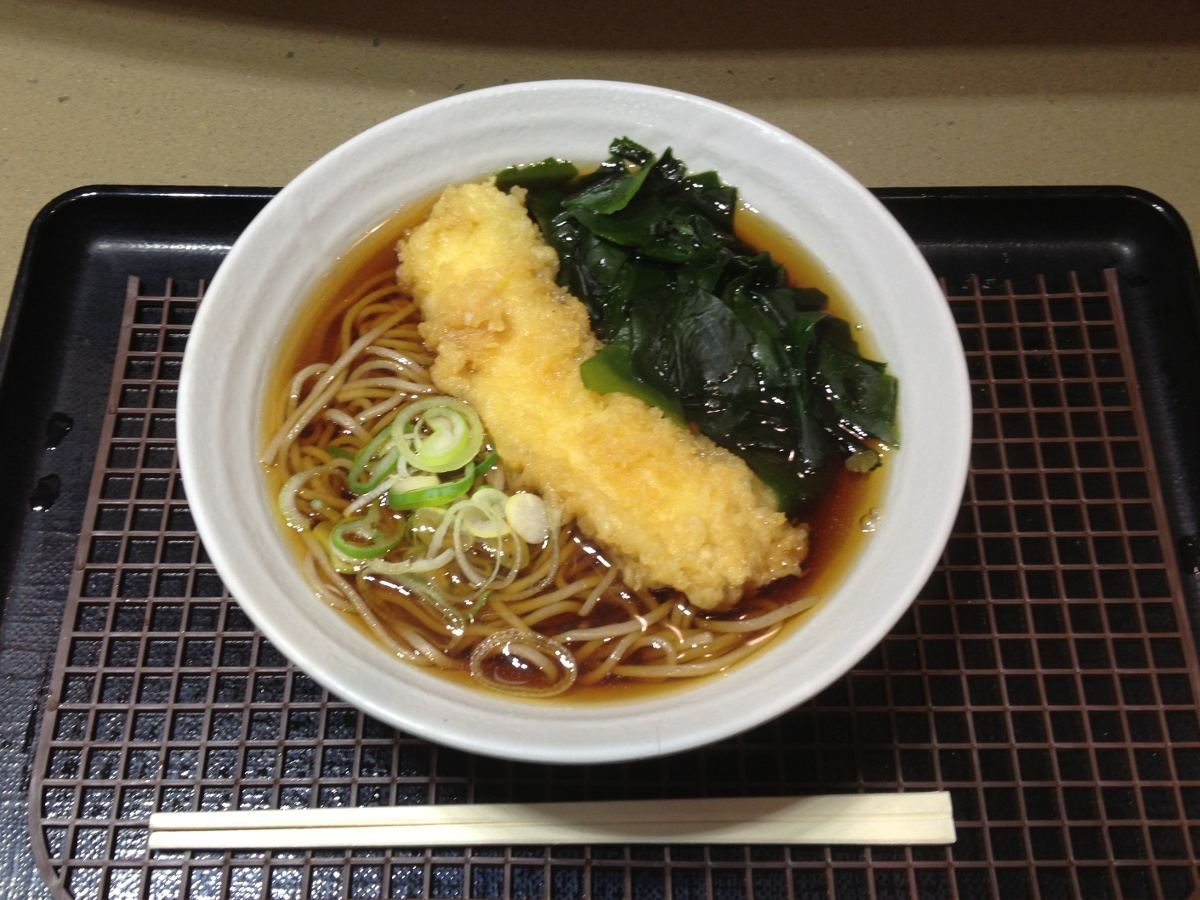Soba: (281, 285, 712, 720)
